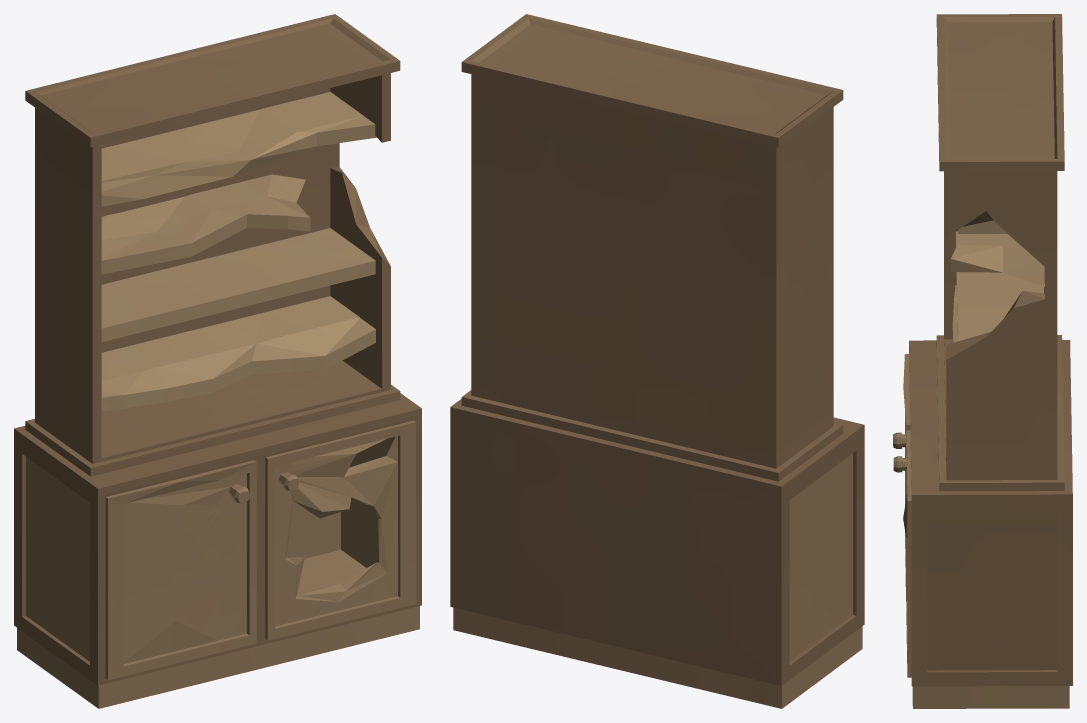
File: shelf_4_A.obj
3 renders of one model, left to right at view 1: azimuth 30°, elevation 25°; view 2: azimuth 150°, elevation 25°; view 3: azimuth 270°, elevation 25°, orthographic. The views are drawn at different scales.
Visible parts, largest first — view 1: shelf_upper_A_Material, shelf_A_Material, shelf_door_A_Material, box_A_Material; view 2: shelf_upper_A_Material, box_A_Material; view 3: shelf_upper_A_Material, box_A_Material, shelf_A_Material, shelf_door_A_Material.
Part boxes in pixels (x1,y1,x2,y2): shelf_upper_A_Material: (25,14,400,476); shelf_A_Material: (101,92,376,411); shelf_door_A_Material: (105,420,416,680); box_A_Material: (14,393,421,708); shelf_upper_A_Material: (461,14,843,481); box_A_Material: (450,399,864,708); shelf_upper_A_Material: (936,14,1064,491); box_A_Material: (909,340,1072,708); shelf_A_Material: (950,220,1044,342); shelf_door_A_Material: (893,354,911,677).
Bounding box in the file's own units: 1.07 × 1.75 × 0.5224.
